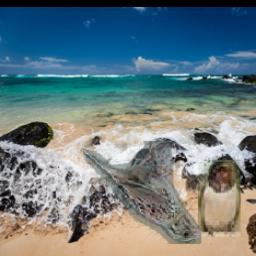Sparrow: (81, 141, 201, 244)
Swallow: (199, 160, 242, 237)
